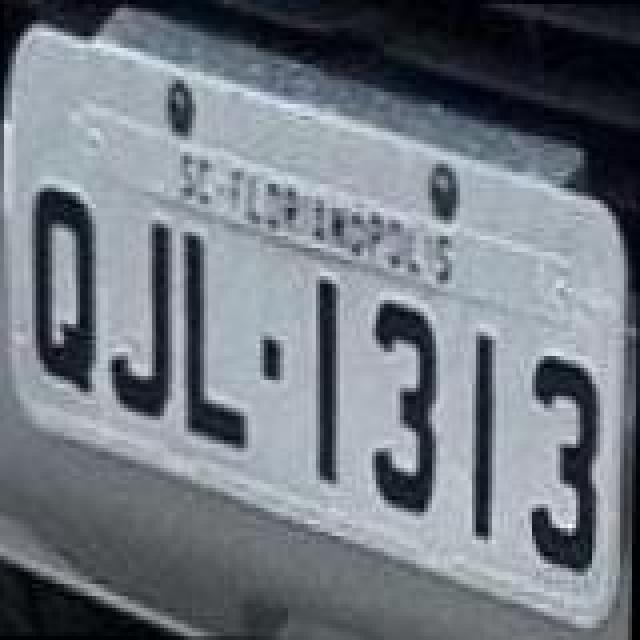1: (312, 270, 352, 490), (468, 324, 500, 544)
3: (524, 348, 604, 572), (366, 296, 442, 516)
J: (108, 214, 176, 418)
L: (178, 230, 258, 454)
Q: (24, 186, 100, 398)
